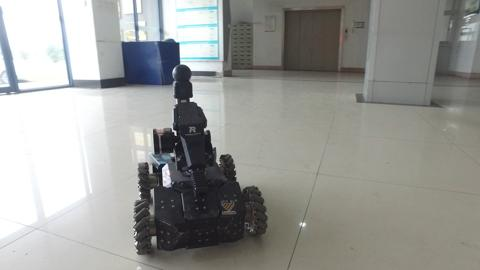chariot: (116, 59, 280, 259)
